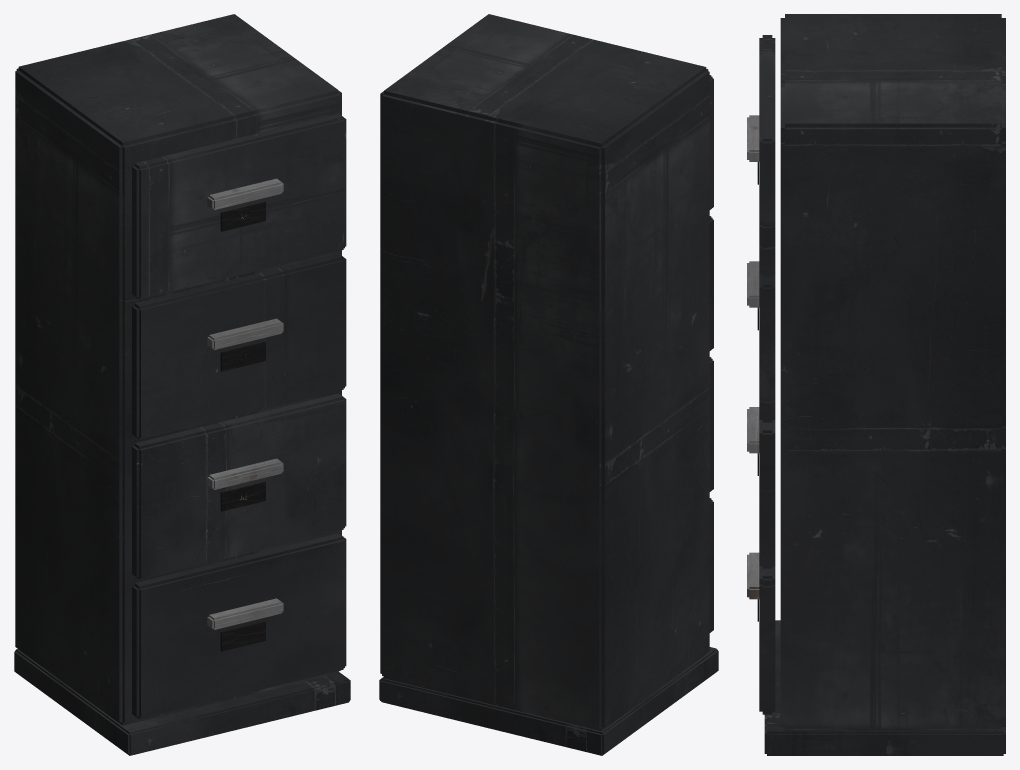
File: file_cabinet.gltf
The picture shows the model from 3 angles, left to right: view 1: azimuth 30°, elevation 25°; view 2: azimuth 150°, elevation 25°; view 3: azimuth 270°, elevation 25°; orthographic projection. The views are drawn at different scales.
Parts seen in each view (by area): view 1: Body, Drawer2, Drawer1, Drawer4, Drawer3; view 2: Body, Drawer1, Drawer2, Drawer3, Drawer4; view 3: Body, Drawer4, Drawer1, Drawer3, Drawer2.
Boxes of the visible parts, x1,y1,x2,y2 form: Body: (14,14,350,755); Drawer2: (132,393,346,579); Drawer1: (132,533,346,719); Drawer4: (132,113,346,299); Drawer3: (132,253,346,439); Body: (379,14,718,755); Drawer1: (709,498,713,632); Drawer2: (709,357,713,491); Drawer3: (709,216,713,350); Drawer4: (709,75,713,209); Body: (764,14,1005,755); Drawer4: (747,35,775,277); Drawer1: (747,552,775,714); Drawer3: (747,261,775,422); Drawer2: (747,407,775,568).
Bounding box in the file's own units: 0.5 × 1.3 × 0.483.
Materials: 4 (4 with a texture image).
